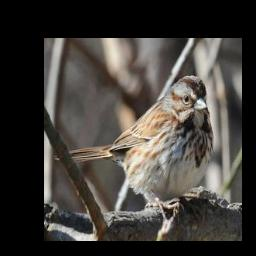Sparrow: (53, 73, 213, 221)
